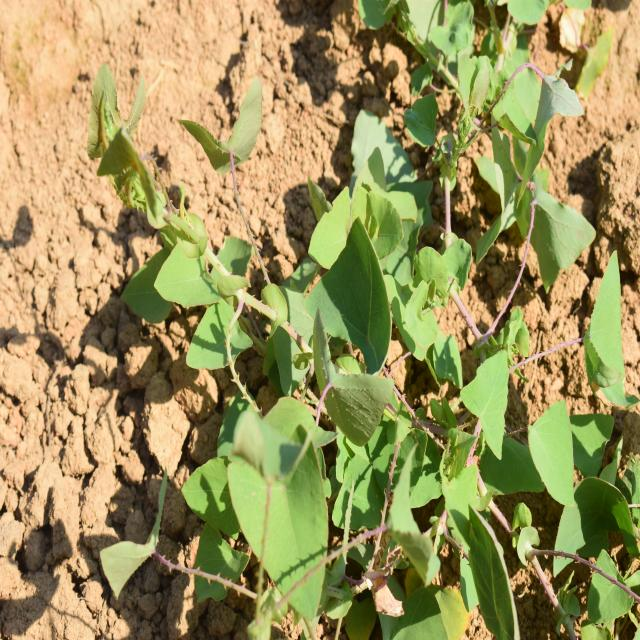Asiatic_Smartweed: (75, 56, 277, 348), (292, 166, 409, 476), (434, 327, 592, 518)
